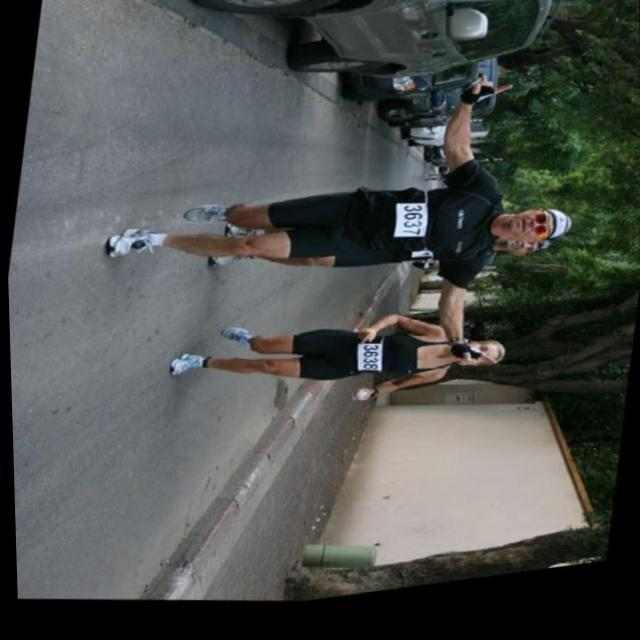dorsal: (386, 209, 432, 254), (348, 346, 386, 388)
